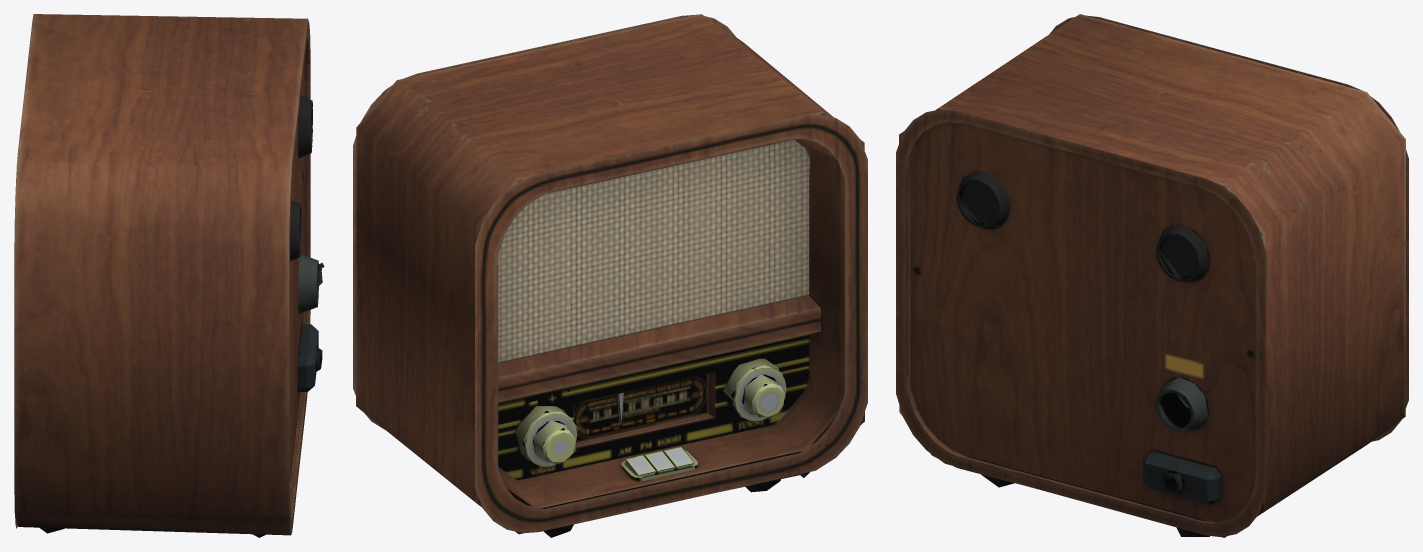
The model's file is Radio.fbx.
The picture shows the model from 3 angles, left to right: view 1: azimuth 30°, elevation 25°; view 2: azimuth 150°, elevation 25°; view 3: azimuth 270°, elevation 25°; orthographic projection. The views are drawn at different scales.
Visible parts, largest first — view 1: Object_2.001; view 2: Object_2.001; view 3: Object_2.001.
Boxes of the visible parts, x1,y1,x2,y2 form: Object_2.001: (14,14,324,537); Object_2.001: (353,14,867,537); Object_2.001: (896,14,1408,537).
Bounding box in the file's own units: 58.54 × 53.12 × 65.3.
